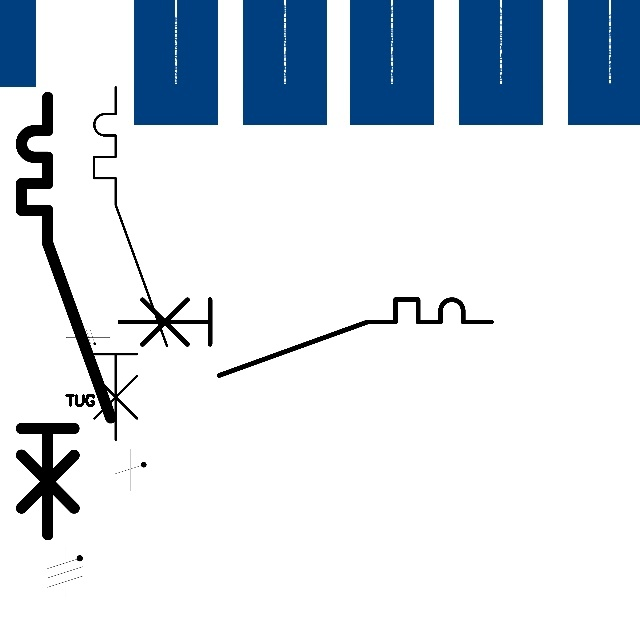interruptor_termomagnetico: (10, 86, 122, 546), (110, 290, 500, 385), (85, 78, 176, 449)
